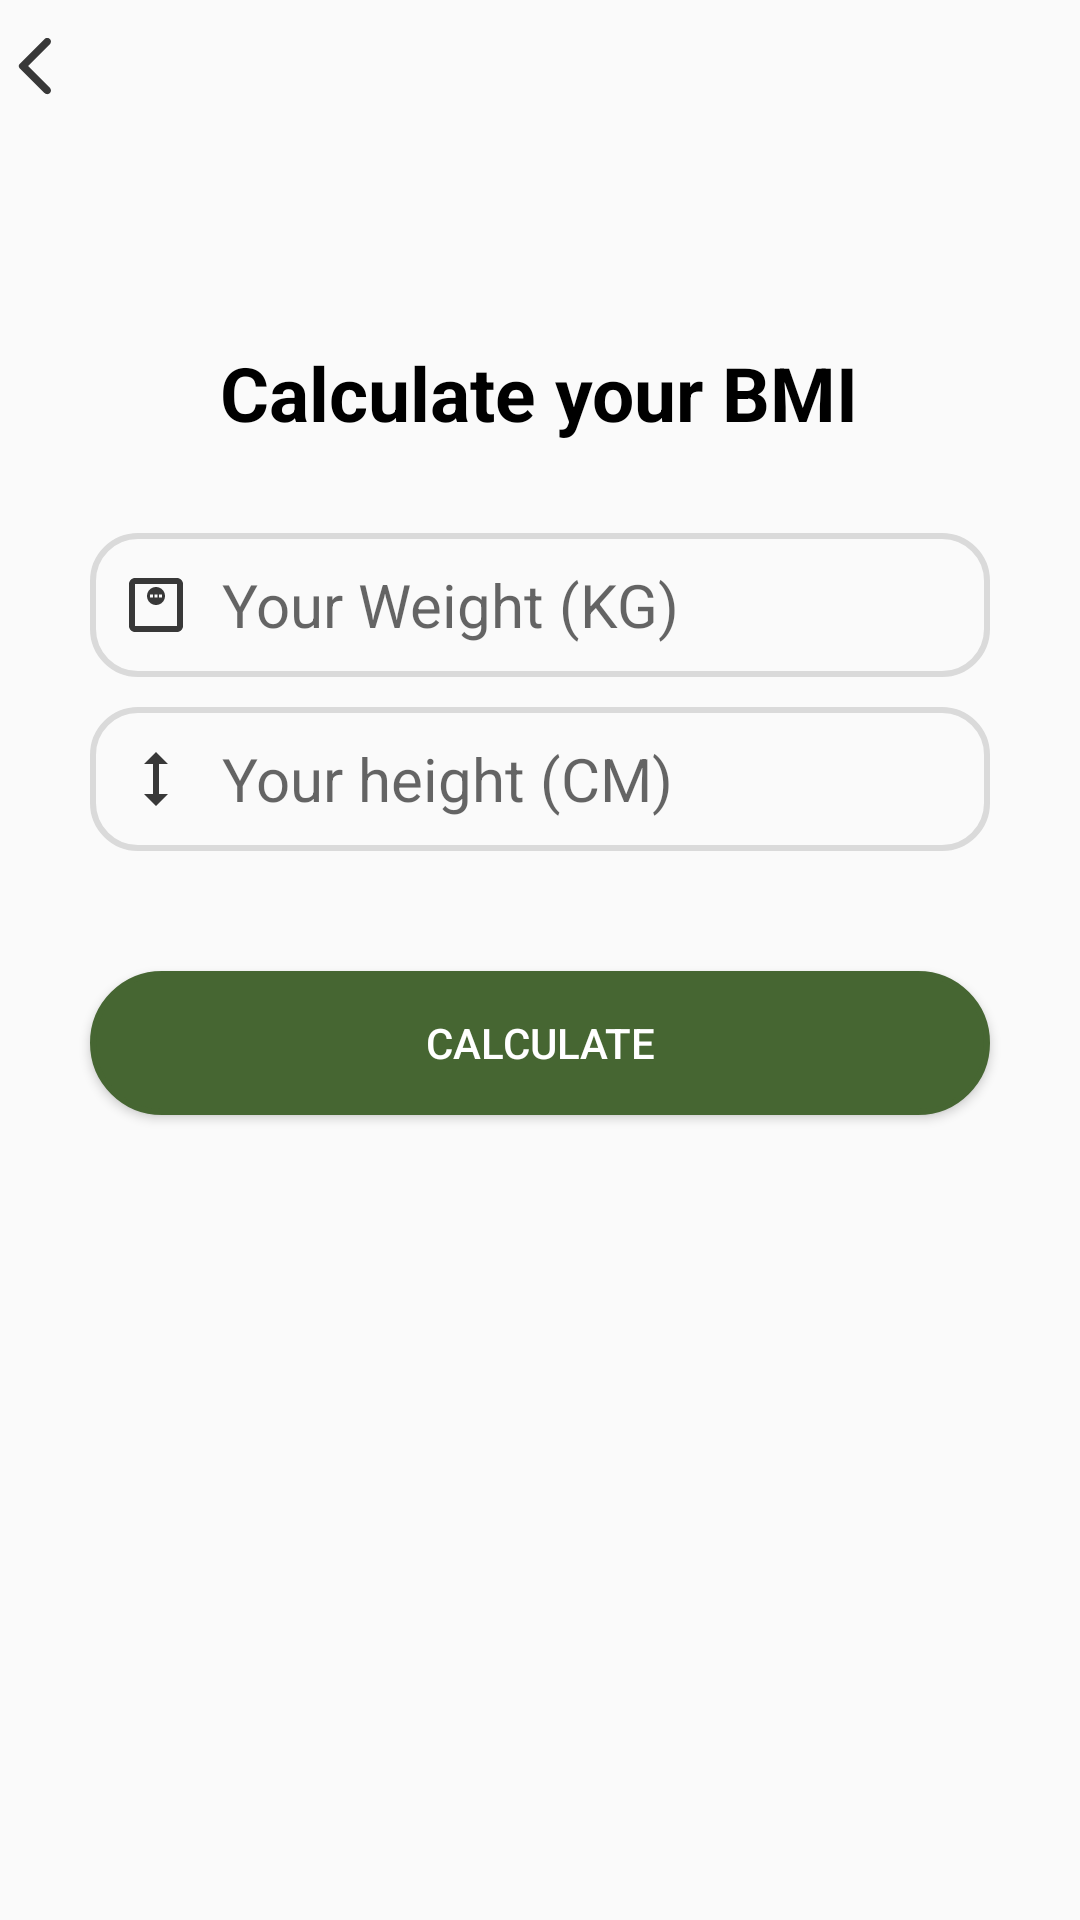

Where to tap for icons on this 1080×1920 app screen, as [x,y]:
back: [34,66]
